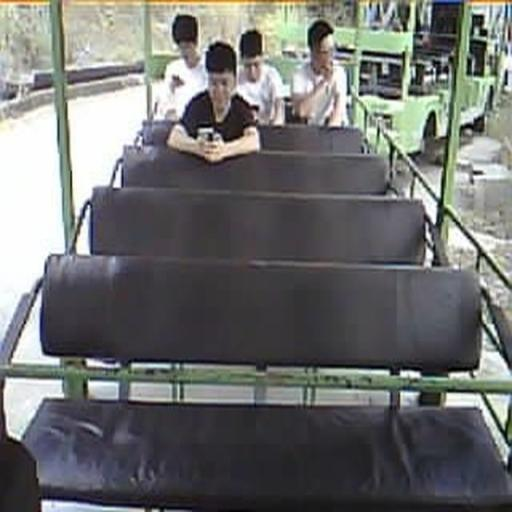persona: (166, 40, 260, 164), (290, 18, 349, 128), (154, 13, 210, 121), (235, 29, 286, 126)
